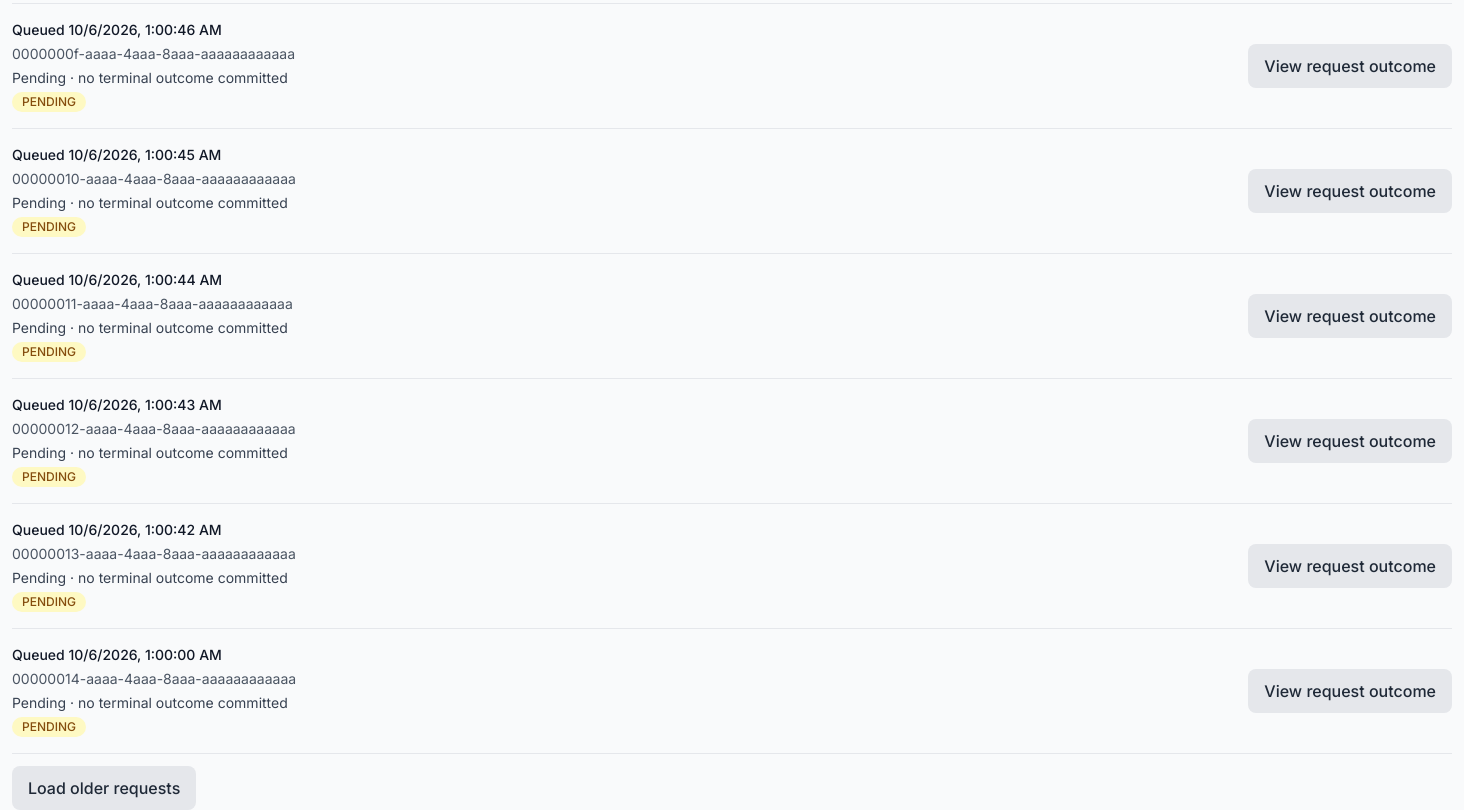
bounded read-only simulation request history › rejects continuation crossing immutable boundary: repeatsCursor
(page scrolled)
Click the button "Load older requests" at (104, 788), box [12,766,196,809]
(page scrolled)
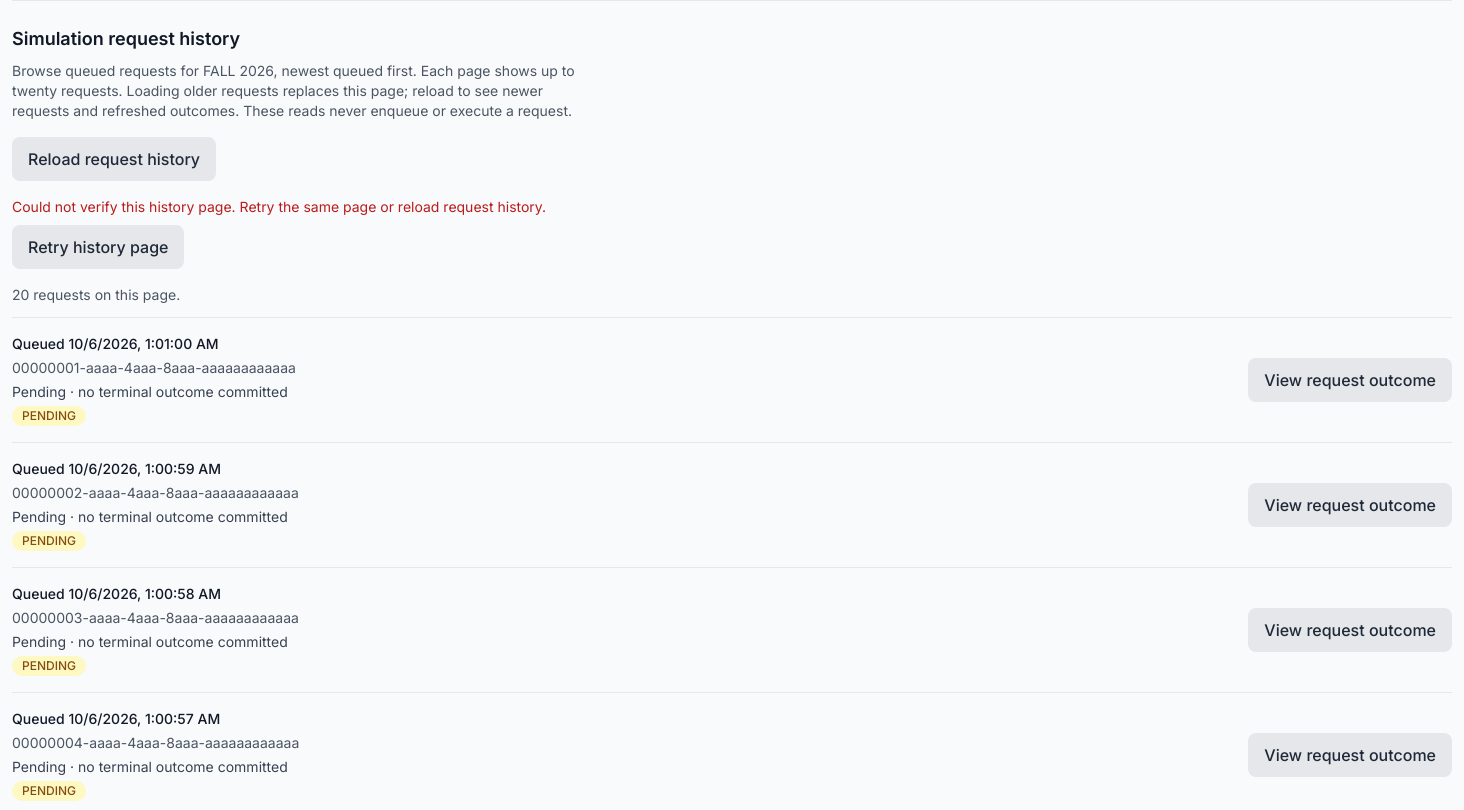
expect the message is shown: met, box [12,197,586,217]
Click the button "Retry history page" at (98, 247), box [12,225,184,269]
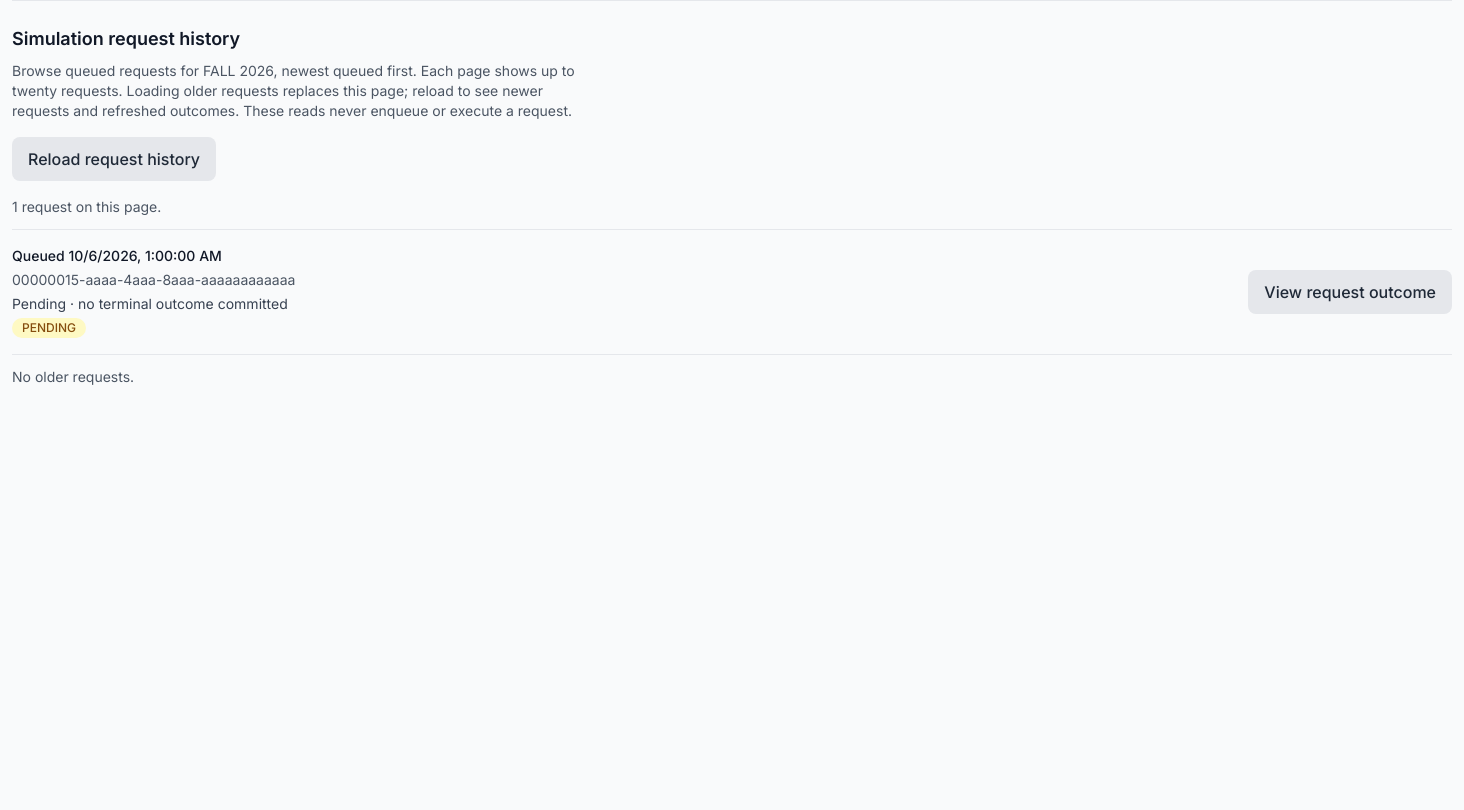
expect the button "Reload request history" is enabled: met, box [12,137,216,181]
expect the number of list items is 1: met, box [12,230,1452,354]
